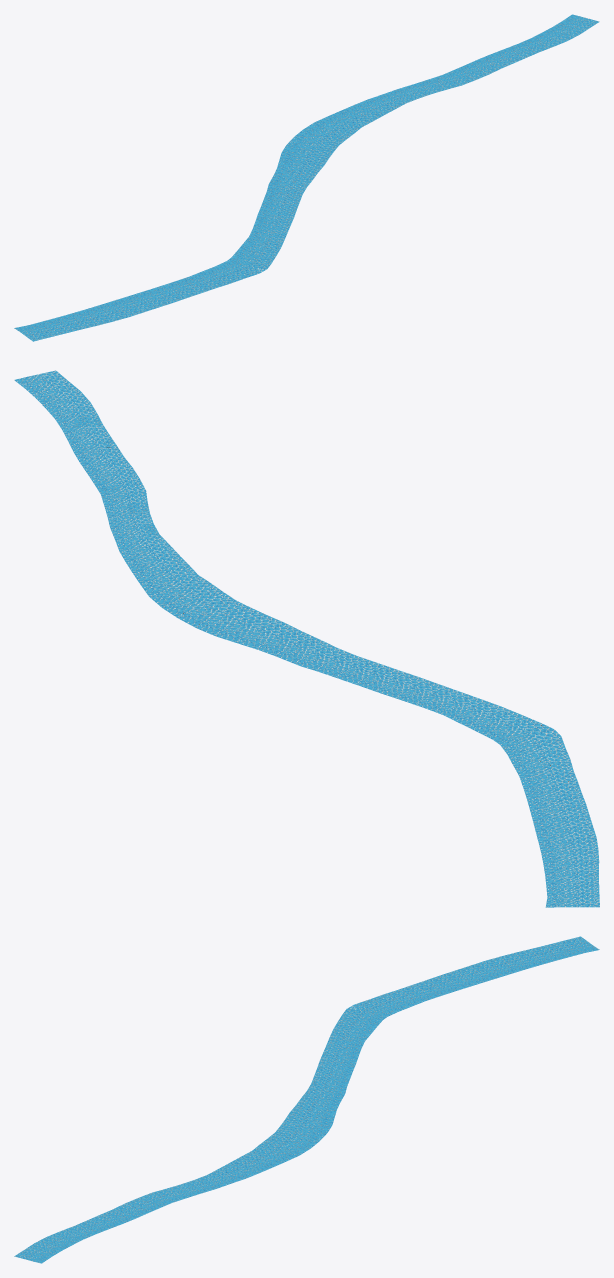
3 views of the same model, one above another, from view 1: azimuth 90°, elevation 25°; view 2: azimuth 150°, elevation 25°; view 3: azimuth 270°, elevation 25° (orthographic). The views are drawn at different scales.
Visible parts, largest first — view 1: River_Mesh.007, River_Mesh_Upper.007; view 2: River_Mesh.007, River_Mesh_Upper.007; view 3: River_Mesh.007, River_Mesh_Upper.007.
Boxes of the visible parts, x1,y1,x2,y2 form: River_Mesh.007: (14, 14, 599, 341); River_Mesh_Upper.007: (15, 15, 598, 340); River_Mesh.007: (15, 370, 599, 907); River_Mesh_Upper.007: (14, 370, 599, 907); River_Mesh.007: (14, 936, 599, 1263); River_Mesh_Upper.007: (15, 936, 598, 1262).
Bounding box in the file's own units: 378 × 0.0809 × 286.
2 materials, 2 textured.
